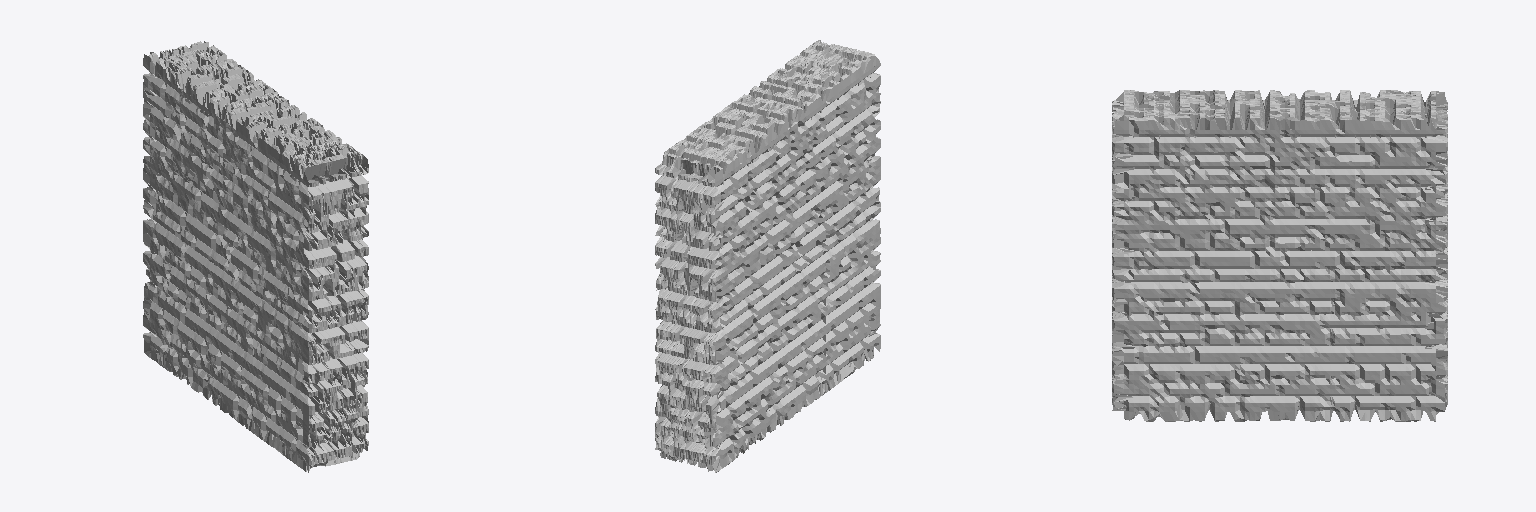
The model's file is brickwall_3d_shrinked.obj.
3 renders of one model, left to right at view 1: azimuth 30°, elevation 25°; view 2: azimuth 150°, elevation 25°; view 3: azimuth 270°, elevation 25°, orthographic.
Visible parts, largest first — view 1: Cube_Cube.001; view 2: Cube_Cube.001; view 3: Cube_Cube.001.
Part boxes in pixels (x1,y1,x2,y2): Cube_Cube.001: (143,41,368,472); Cube_Cube.001: (655,40,880,472); Cube_Cube.001: (1112,90,1447,421).
Size of the model in its own units: 0.4374 by 2.09 by 2.09.